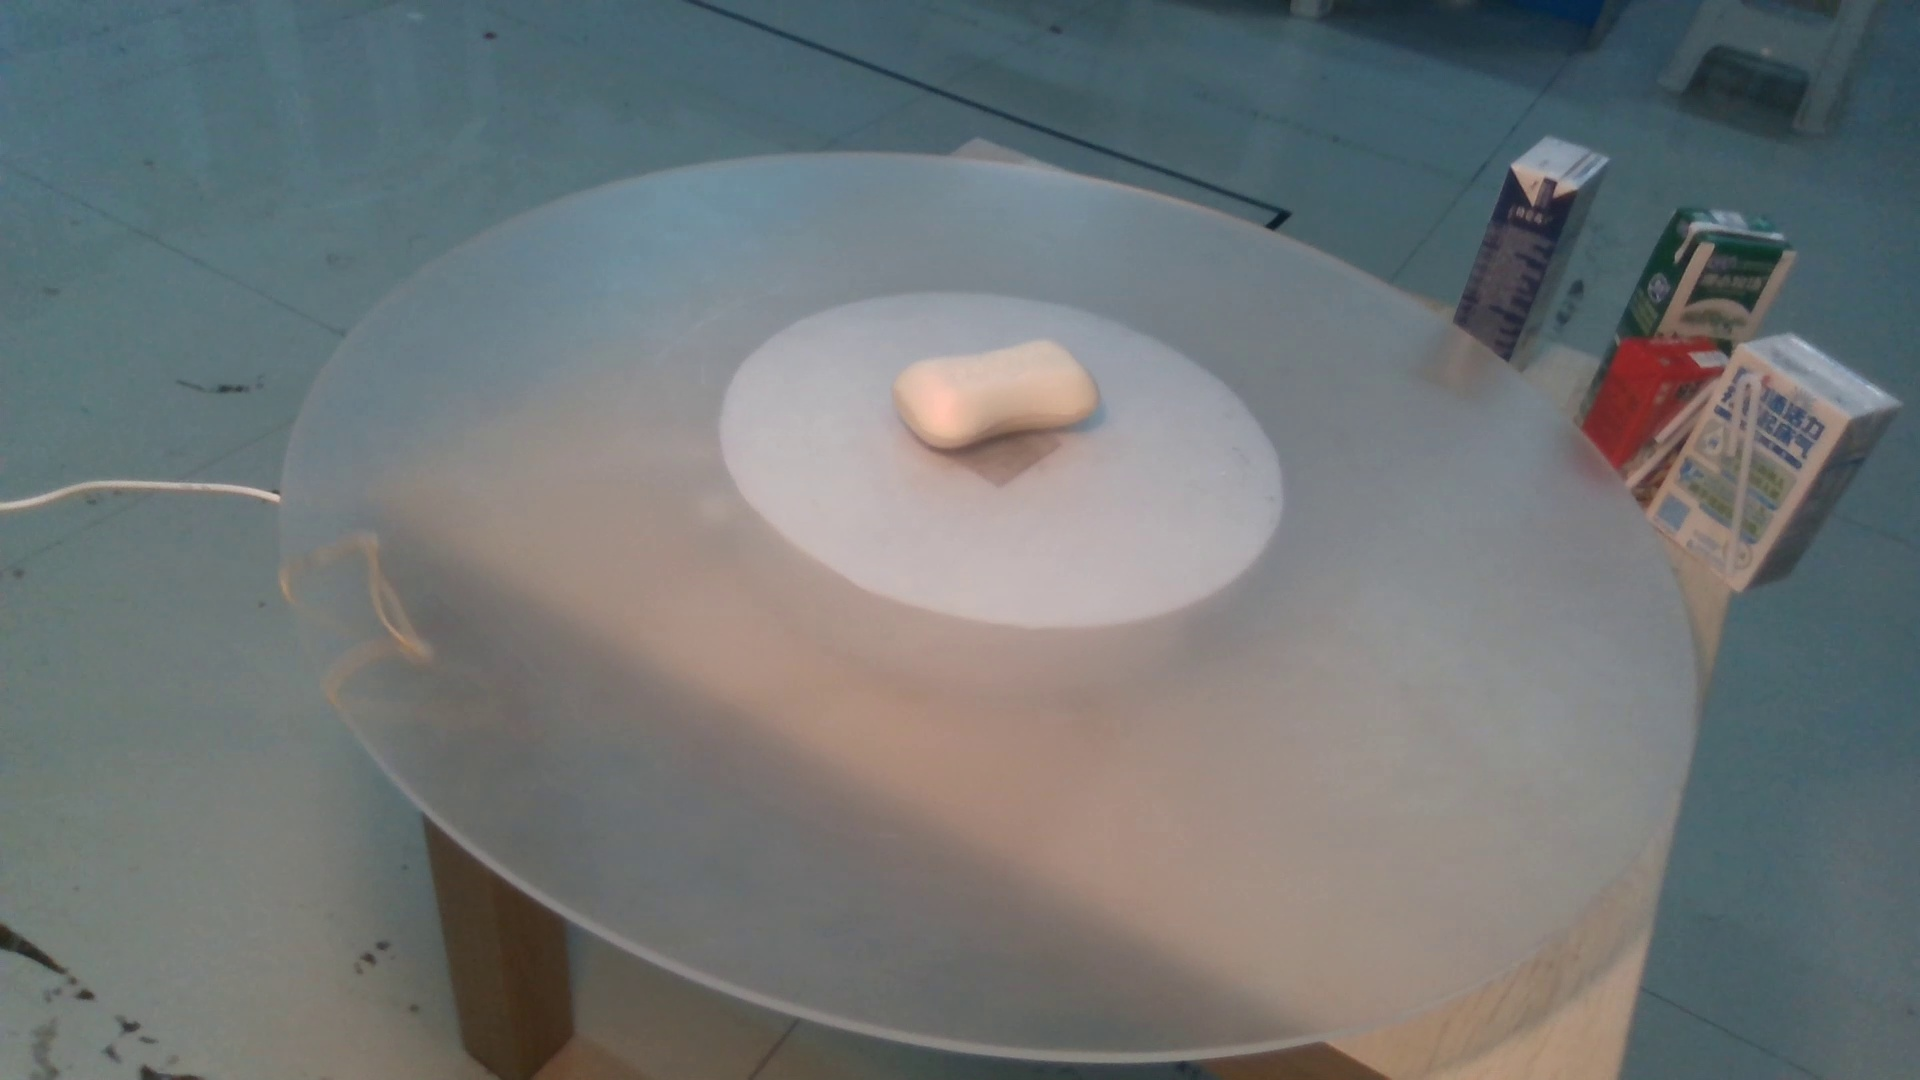CA003_1: (874, 311, 1125, 458)
